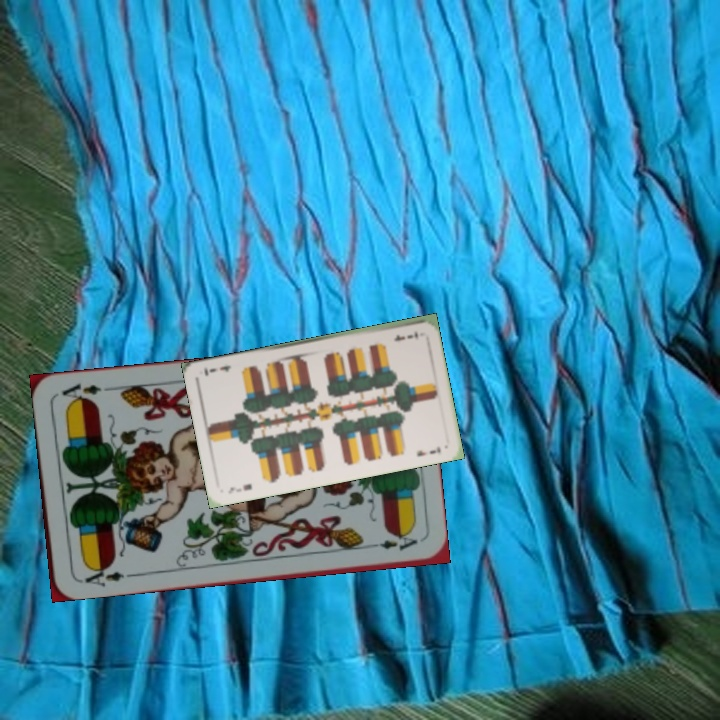E7: (390, 327, 420, 344), (224, 480, 255, 496)
EA: (75, 561, 134, 589)
